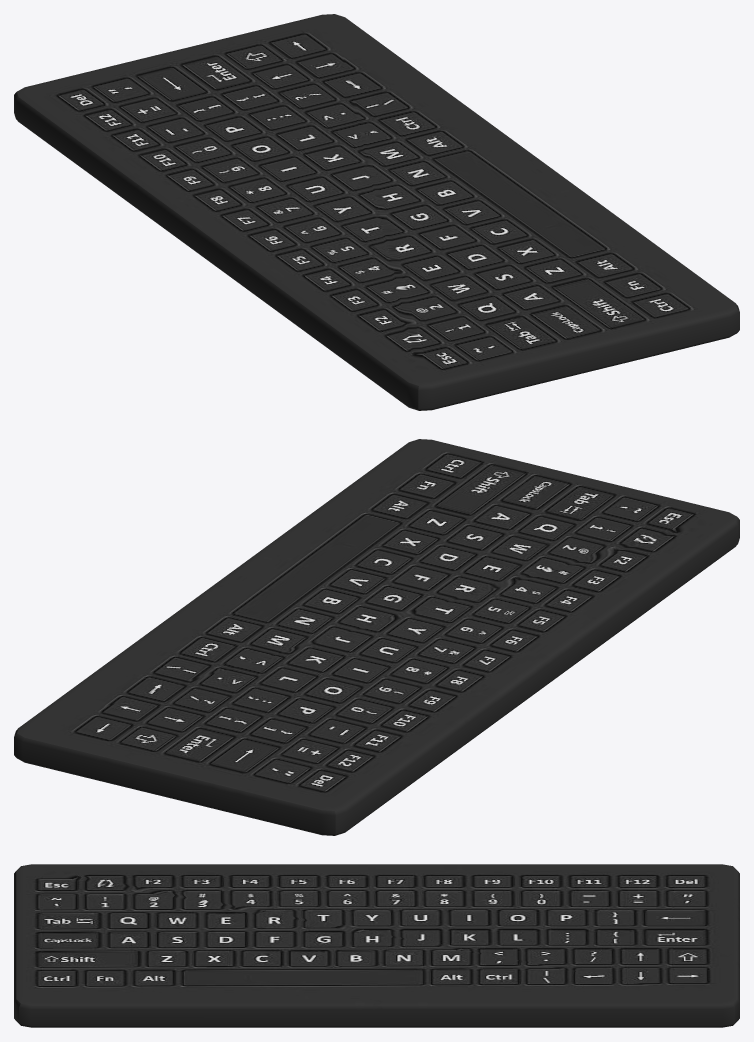
The model's file is Keyboard.fbx.
3 views of the same model, one above another, from view 1: azimuth 30°, elevation 25°; view 2: azimuth 150°, elevation 25°; view 3: azimuth 270°, elevation 25° (orthographic). The views are drawn at different scales.
Parts seen in each view (by area): view 1: pCube60; view 2: pCube60; view 3: pCube60.
Part boxes in pixels (x1,y1,x2,y2): pCube60: (14, 14, 739, 410); pCube60: (14, 439, 739, 835); pCube60: (14, 864, 739, 1027).
Bounding box in the file's own units: 0.1745 × 0.014 × 0.3737.
